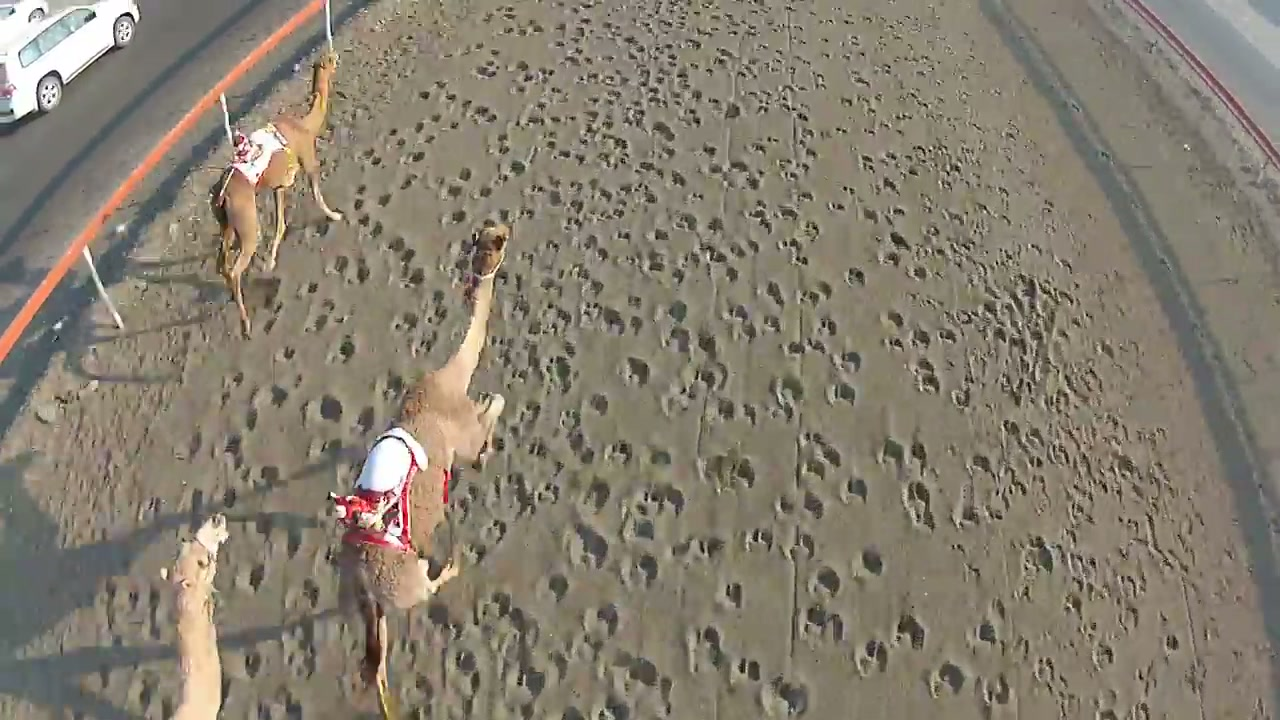animal_foot_print: (0, 0, 1269, 719)
